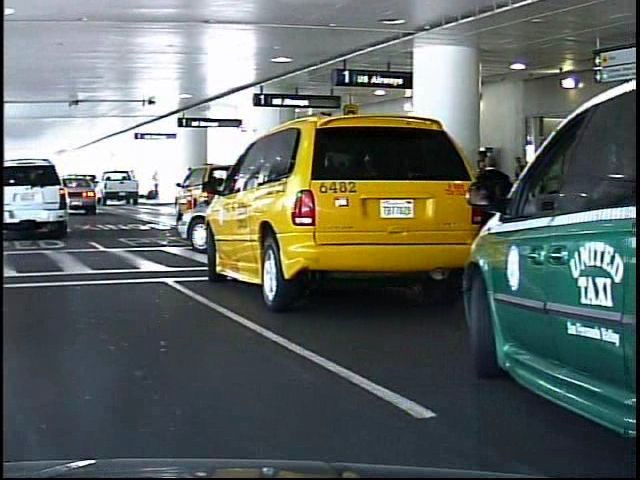person: (470, 149, 509, 285)
